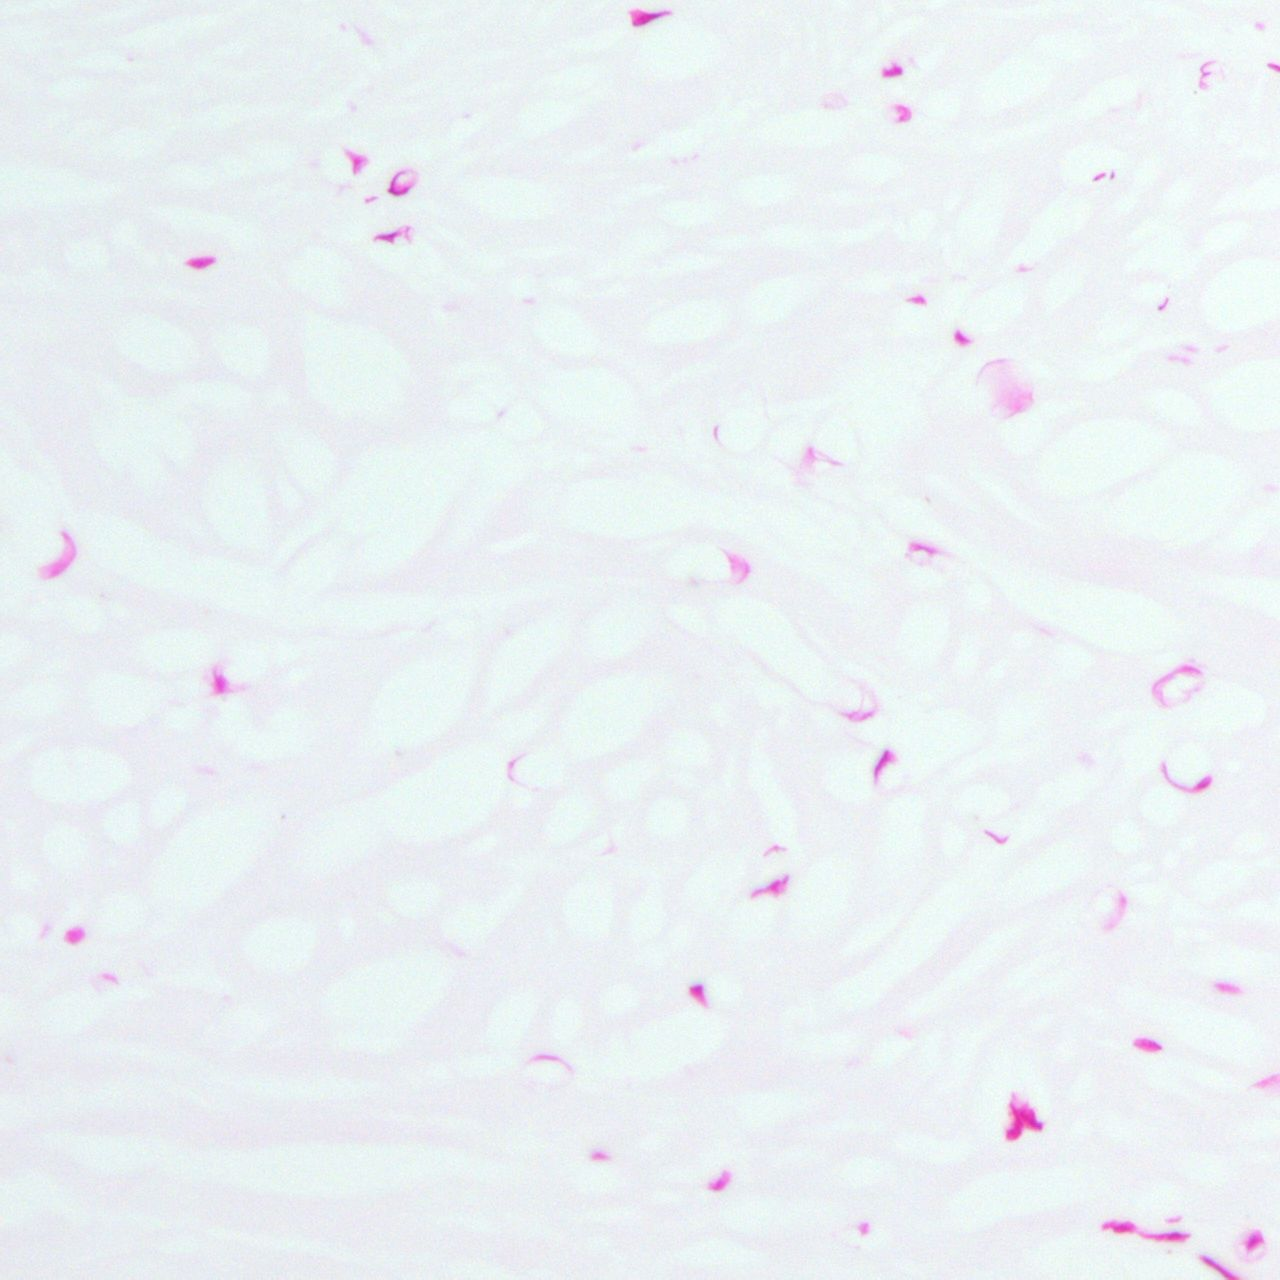nucleus-FG: (1196, 1250, 1242, 1280), (867, 747, 896, 783), (1130, 1032, 1164, 1057), (374, 226, 409, 247), (687, 982, 710, 1010), (1139, 1230, 1191, 1241), (949, 327, 973, 350)
